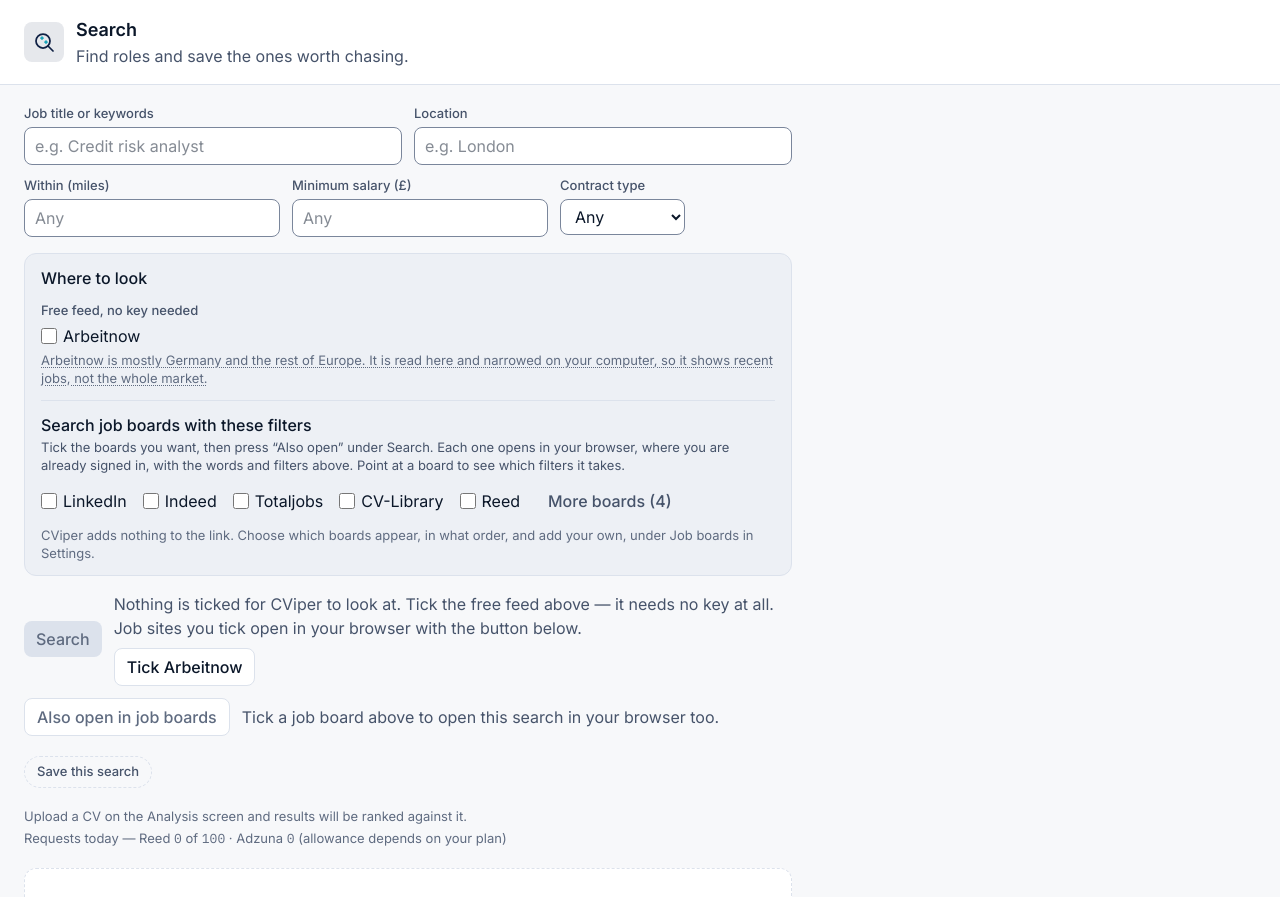
Test: the reason sits beside the disabled Search button (L-335) › boundary: location "Berlin" with the feed unticked — "Tick Arbeitnow" ticks it
This screenshot has width=1280, height=897.
expect the element with test id "keyless-bar" is shown: met, box [41,400,775,563]
Type "Berlin" into the field with test id "search-location".
click(603, 146); type("Berlin")  # box [414,127,792,165]
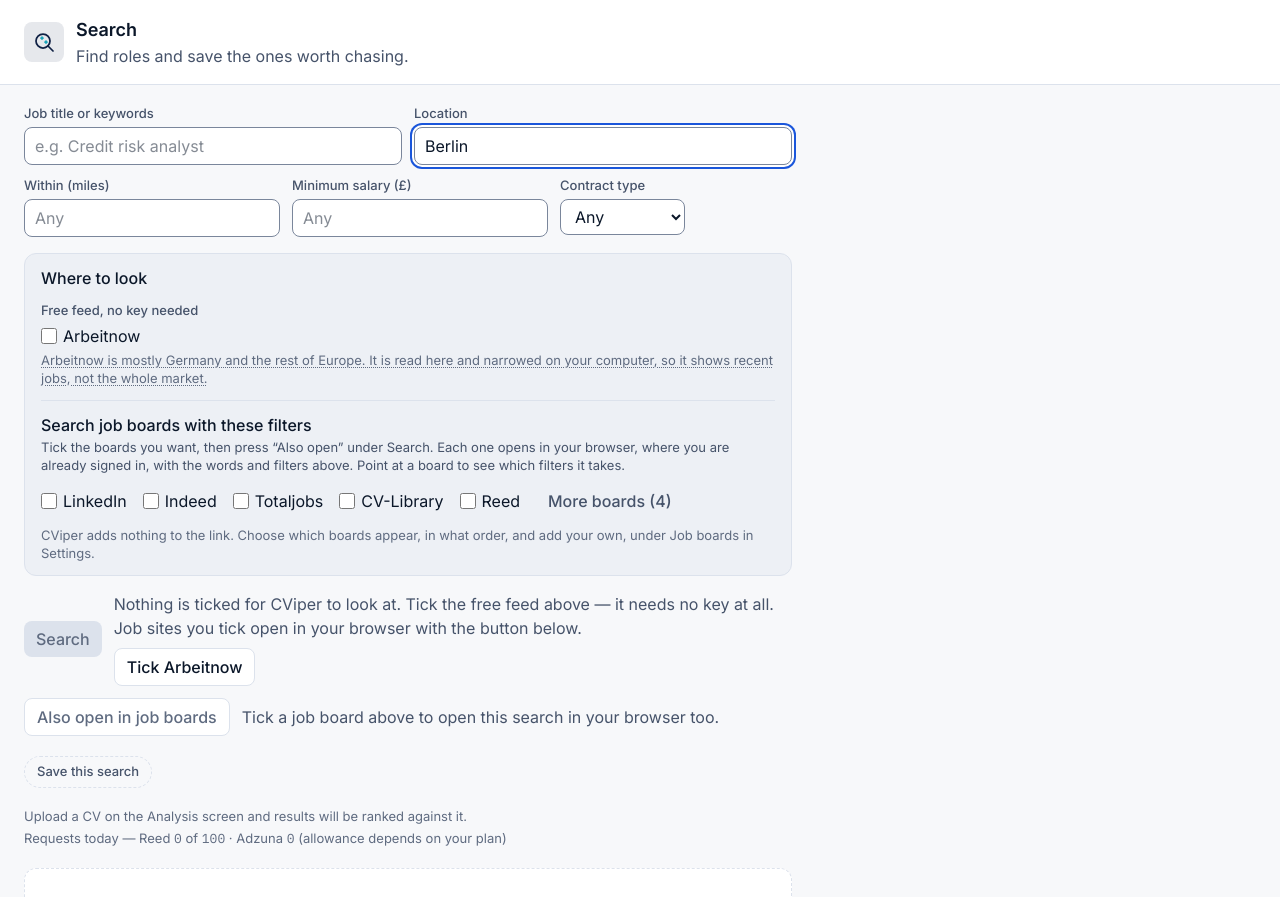
Click the button with test id "search-tick-feeds".
click(185, 667)  # box [114,648,256,686]
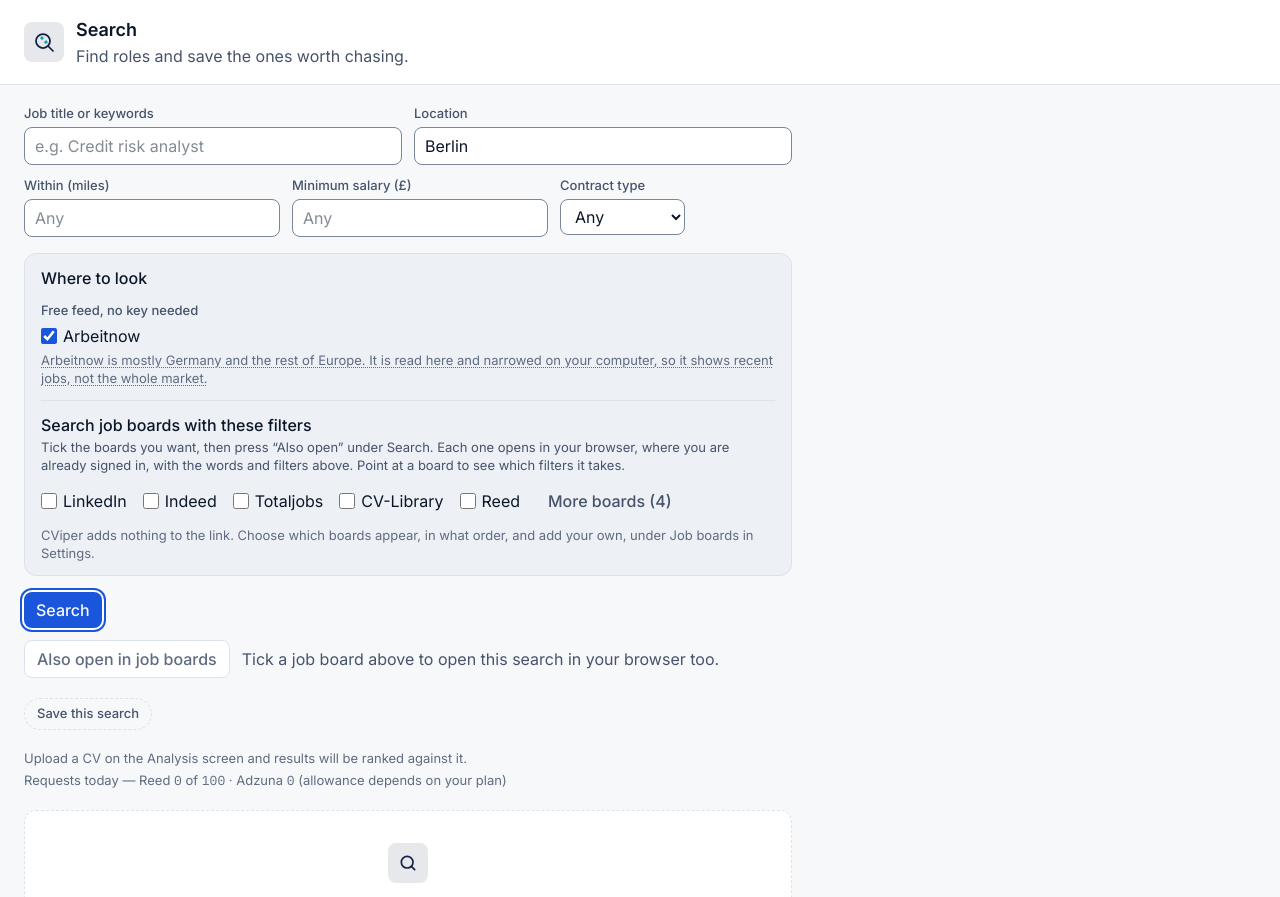
expect the checkbox with test id "keyless-source-arbeitnow" is checked: met, box [41,328,57,344]
expect the button with test id "search-submit" is enabled: met, box [24,592,102,628]
